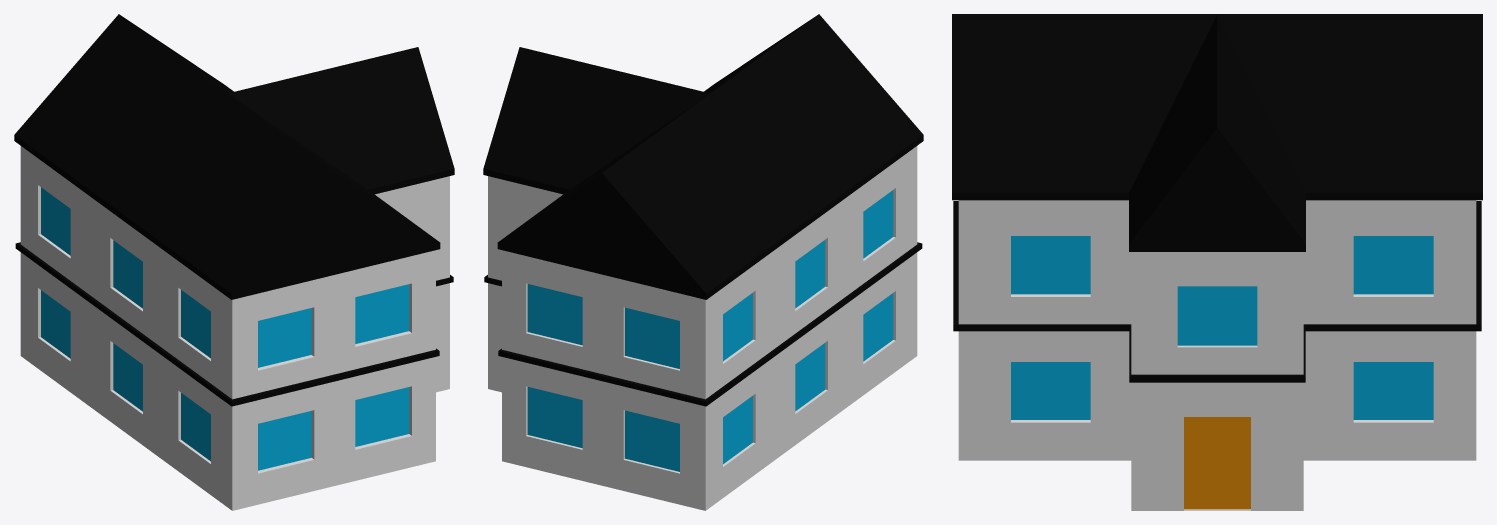
File: house.fbx
3 renders of one model, left to right at view 1: azimuth 30°, elevation 25°; view 2: azimuth 150°, elevation 25°; view 3: azimuth 270°, elevation 25°, orthographic. The views are drawn at different scales.
Parts seen in each view (by area): view 1: Cube; view 2: Cube; view 3: Cube.
Part boxes in pixels (left/top/right/bottom): Cube: left=14, top=14, right=454, bottom=510; Cube: left=483, top=14, right=923, bottom=510; Cube: left=952, top=14, right=1482, bottom=510.
Size of the model in its own units: 2.9 by 2.96 by 3.69.
